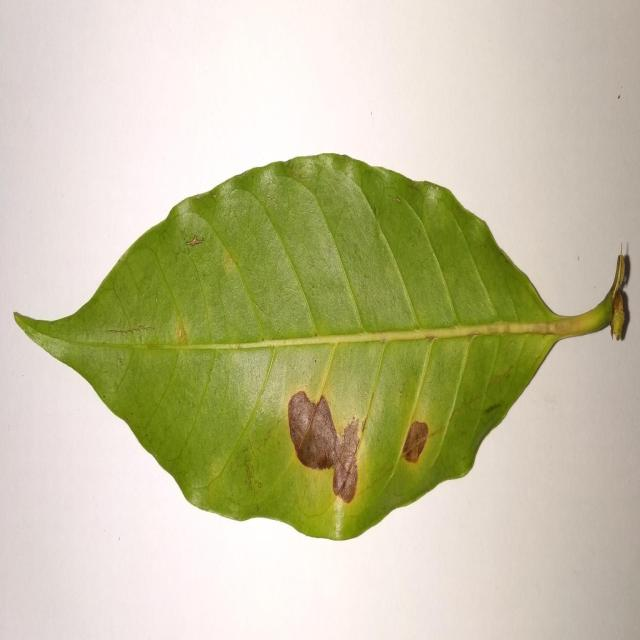Enfermedad-Mancha-de-hierro: (14, 154, 632, 545)
